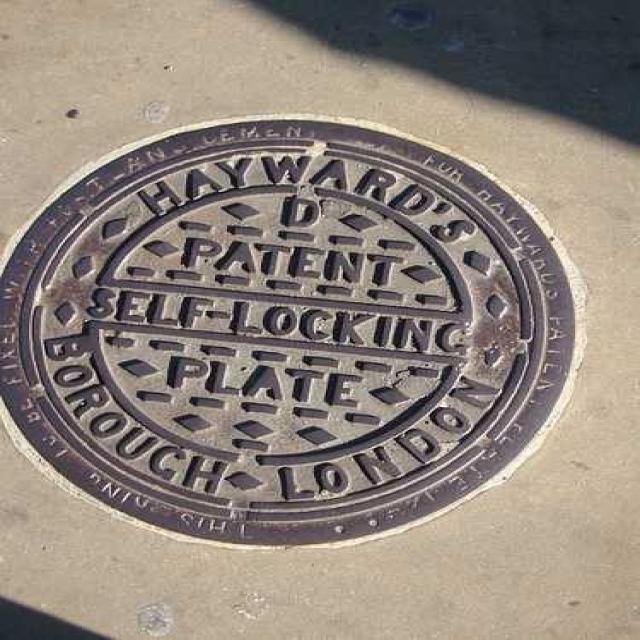manhole: (2, 116, 578, 546)
